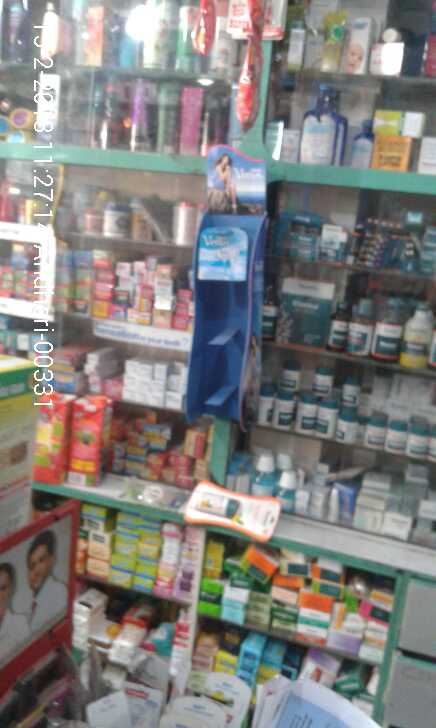beauty: (199, 229, 247, 282)
